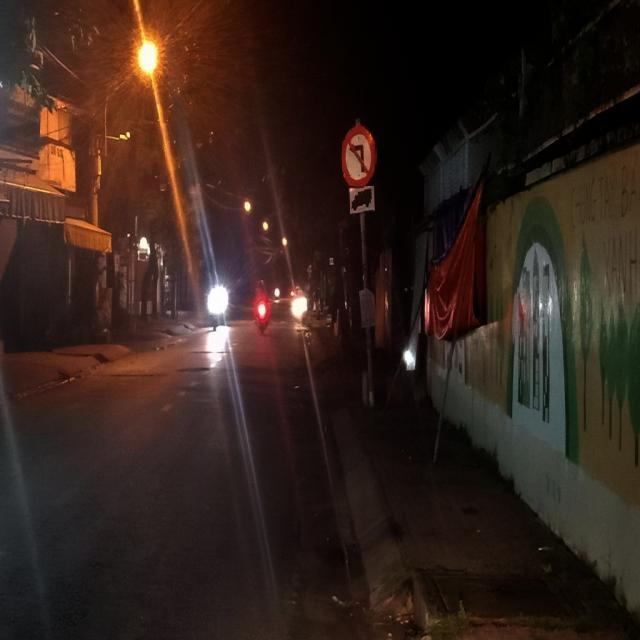123a-cam-re-trai: (339, 127, 377, 187)
